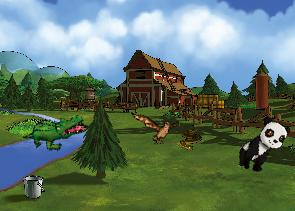crocodile: (21, 99, 90, 163)
eagle: (131, 107, 181, 147)
panda: (232, 112, 293, 179)
